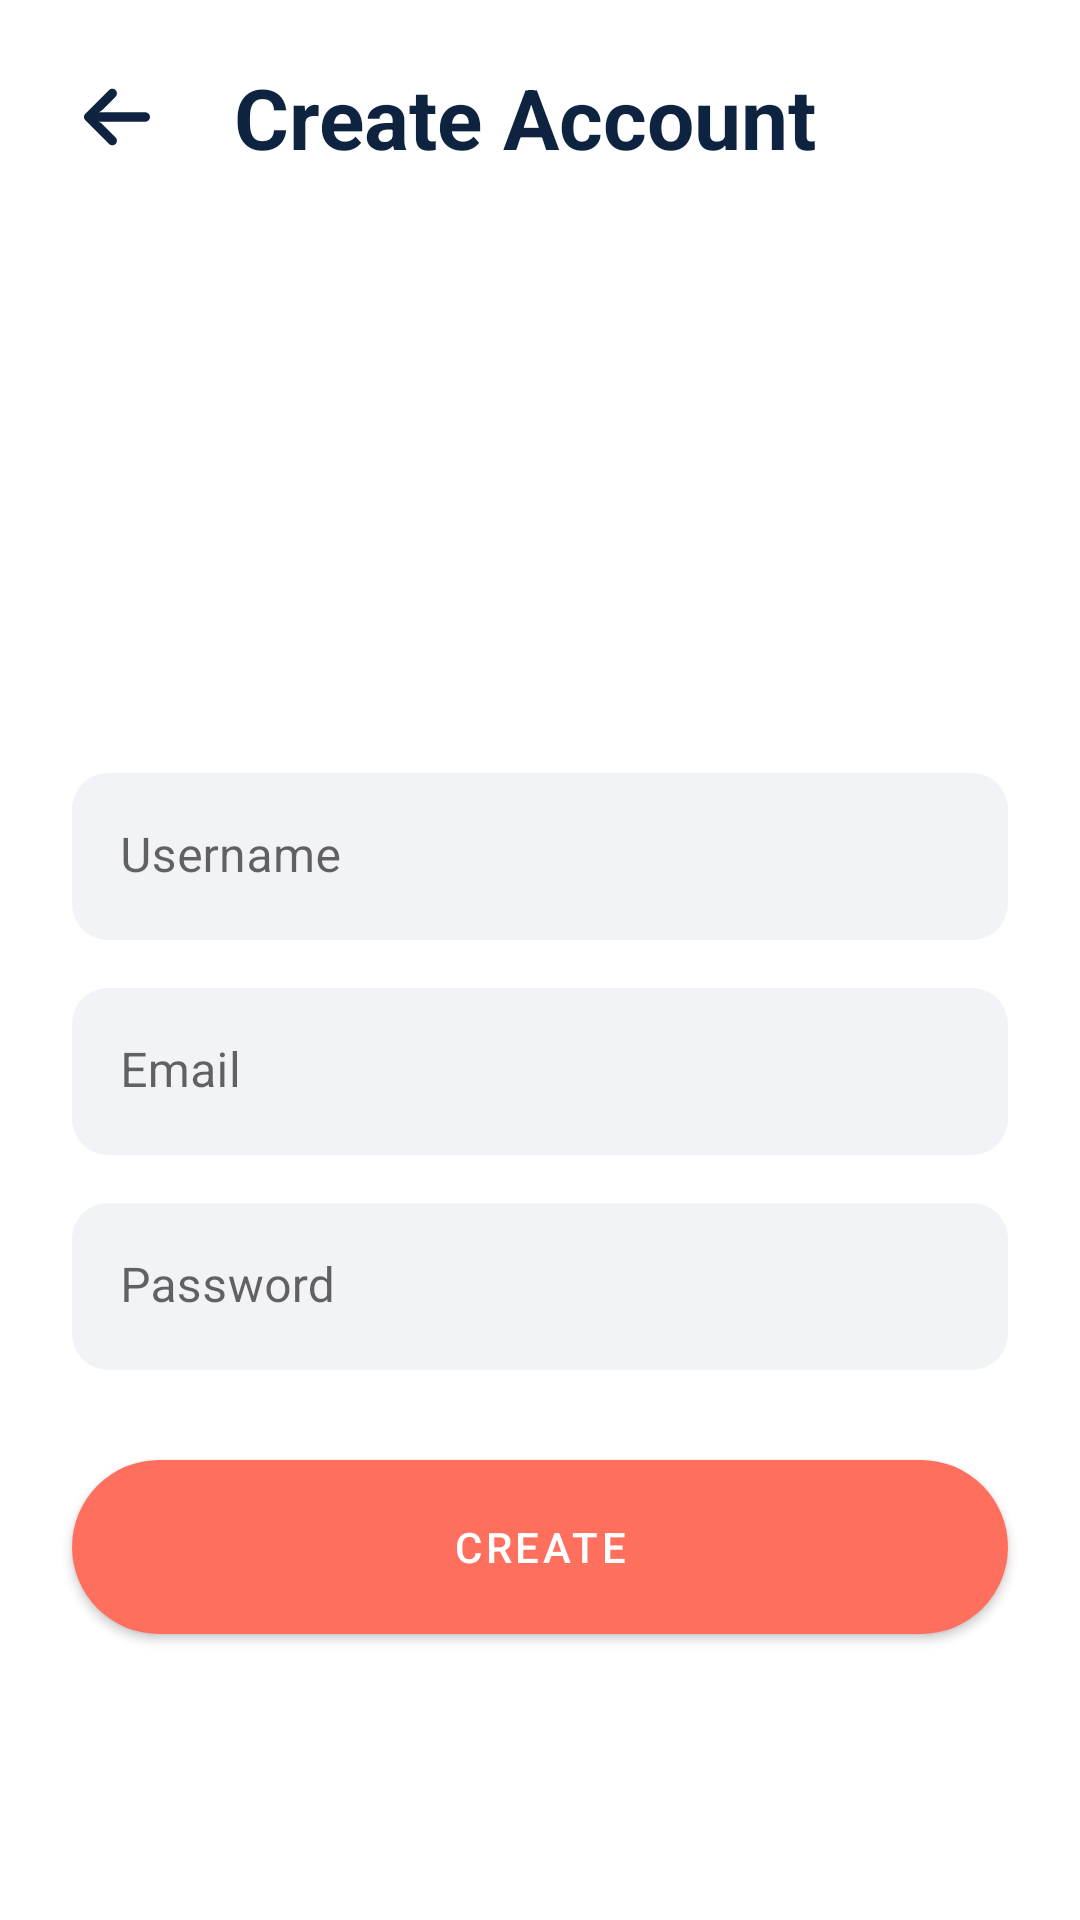

Point at icon controls on the screen. Image size 1080x1920, points as point (x, y).
arrow: point (117, 117)
